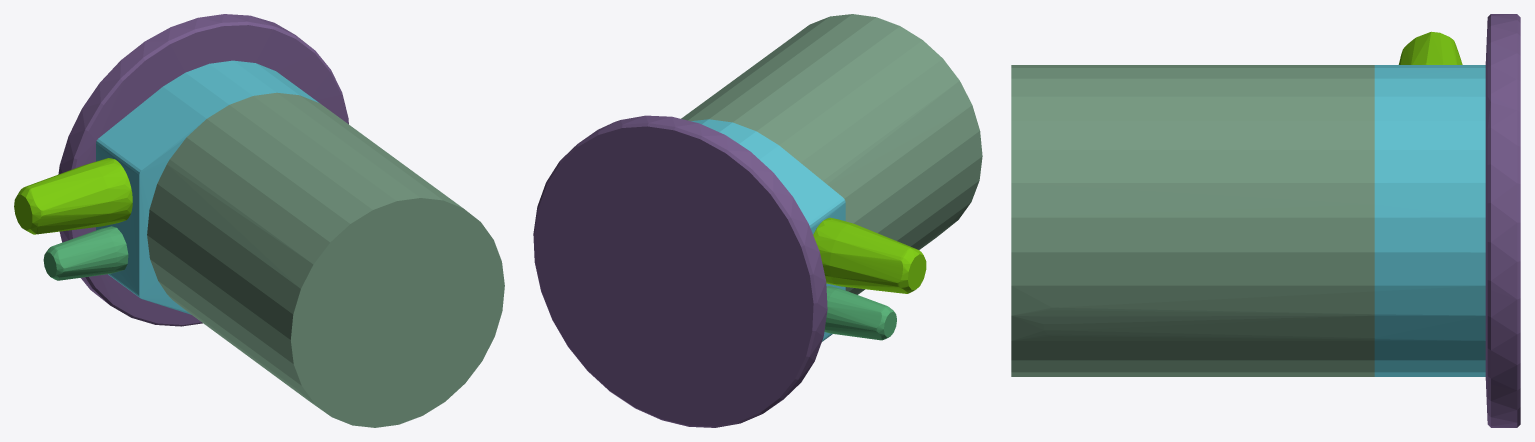
The picture shows the model from 3 angles, left to right: view 1: azimuth 30°, elevation 25°; view 2: azimuth 150°, elevation 25°; view 3: azimuth 270°, elevation 25°; orthographic projection. The views are drawn at different scales.
Visible parts, largest first — view 1: geometry_0, geometry_1, geometry_2, geometry_4, geometry_3; view 2: geometry_1, geometry_0, geometry_4, geometry_2, geometry_3; view 3: geometry_0, geometry_2, geometry_1, geometry_4.
Boxes of the visible parts, left/top/right/bottom form: geometry_0: left=147, top=92, right=504, bottom=427; geometry_1: left=58, top=14, right=348, bottom=326; geometry_2: left=96, top=60, right=318, bottom=314; geometry_4: left=14, top=158, right=132, bottom=234; geometry_3: left=43, top=226, right=128, bottom=280; geometry_1: left=533, top=115, right=827, bottom=427; geometry_0: left=681, top=14, right=982, bottom=294; geometry_4: left=813, top=217, right=926, bottom=293; geometry_2: left=691, top=119, right=845, bottom=341; geometry_3: left=824, top=286, right=896, bottom=340; geometry_0: left=1011, top=65, right=1374, bottom=376; geometry_2: left=1374, top=65, right=1485, bottom=376; geometry_1: left=1485, top=14, right=1520, bottom=427; geometry_4: left=1398, top=31, right=1462, bottom=64.
Bounding box in the file's own units: 0.1552 × 0.126 × 0.1548.
